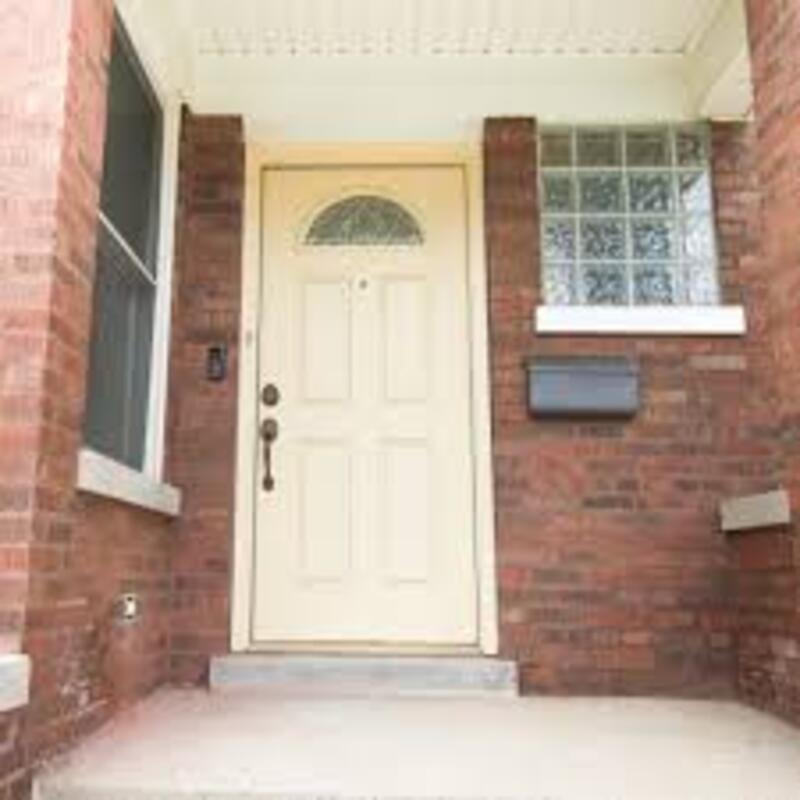doorbell: (198, 335, 230, 388)
